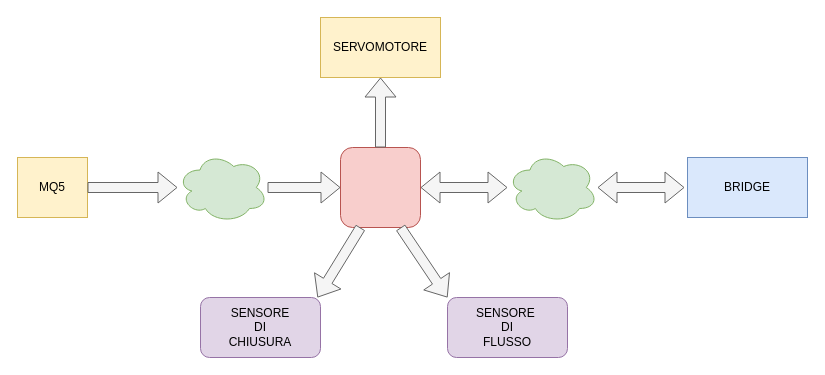
Image size: 825x375. Some labels were removed from this diagram. Each missing label, with the box of its shape:
ADC: (176, 152, 268, 222)
ARDUINO: (340, 146, 420, 228)
SERIALE: (506, 152, 598, 222)
